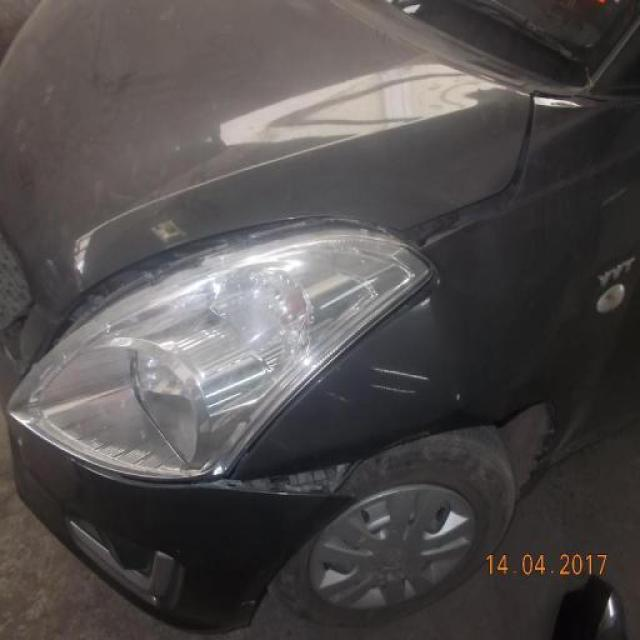misalignment: (230, 451, 358, 504)
scratch: (370, 365, 433, 398)
